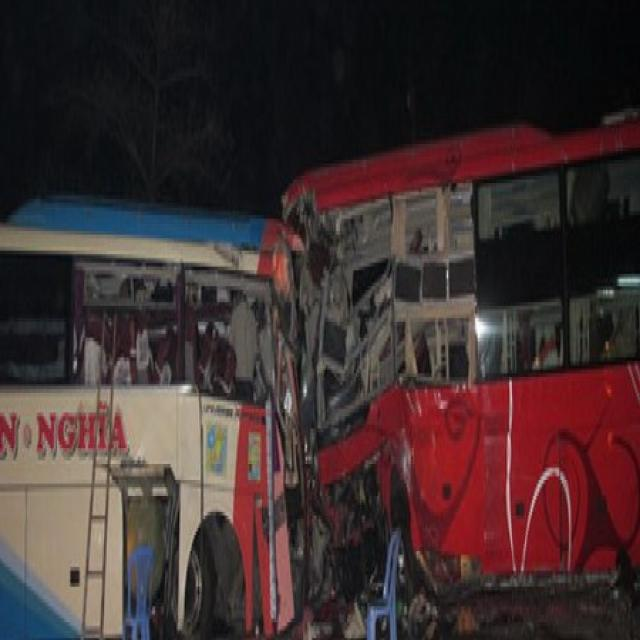accident: (284, 120, 640, 611), (0, 201, 308, 637)
